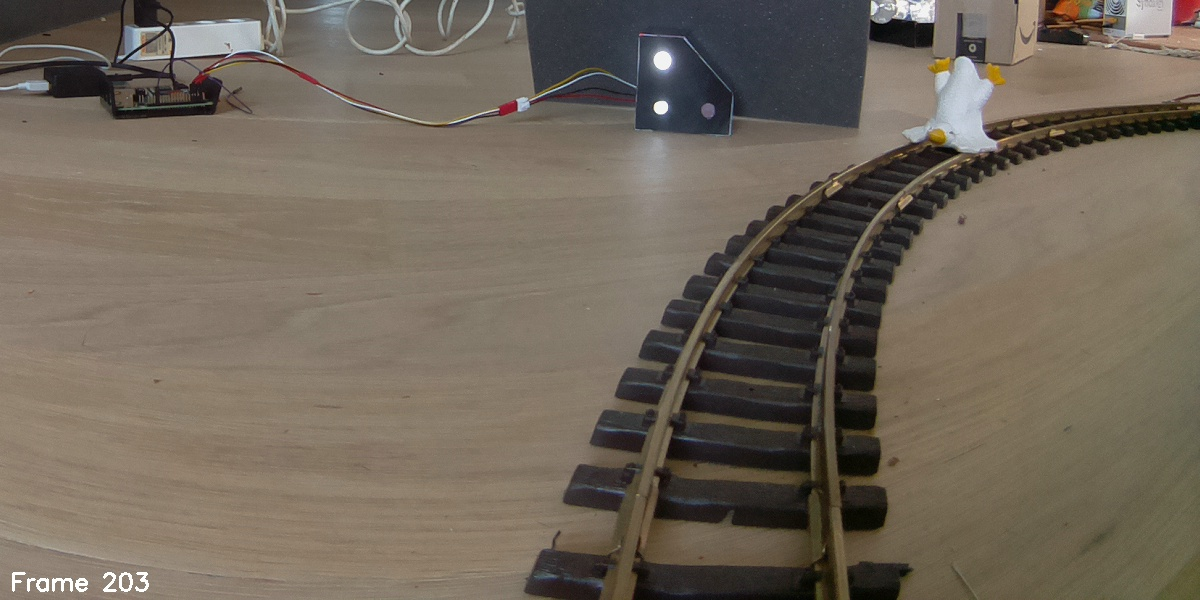Ente: (899, 51, 1006, 159)
Fahrt: (637, 30, 733, 139)
